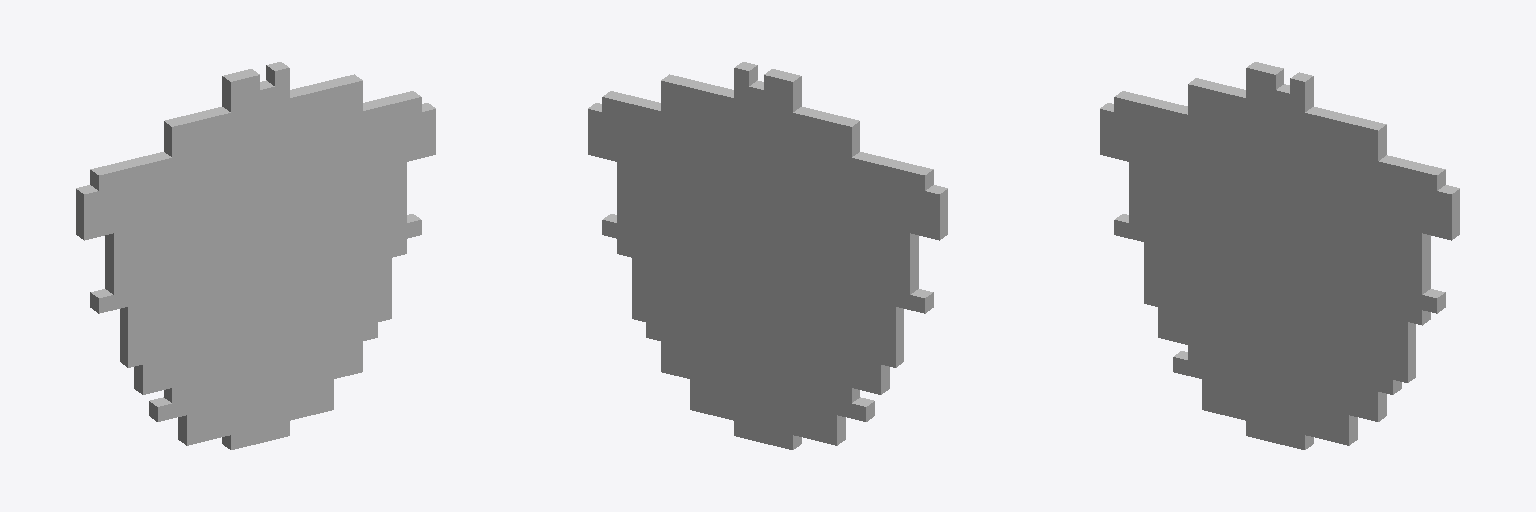
The model's file is generic_block.obj.
3 views of the same model, side by side, from view 1: azimuth 30°, elevation 25°; view 2: azimuth 150°, elevation 25°; view 3: azimuth 330°, elevation 25° (orthographic).
Bounding box in the file's own units: 0.75 × 0.75 × 0.0312.